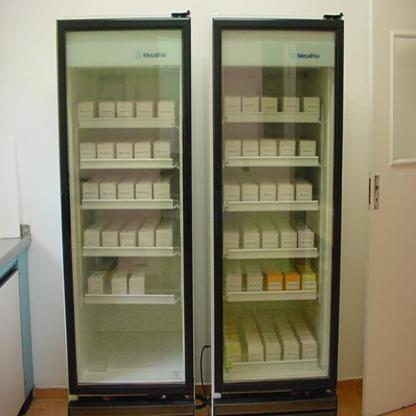door: (364, 0, 415, 415)
